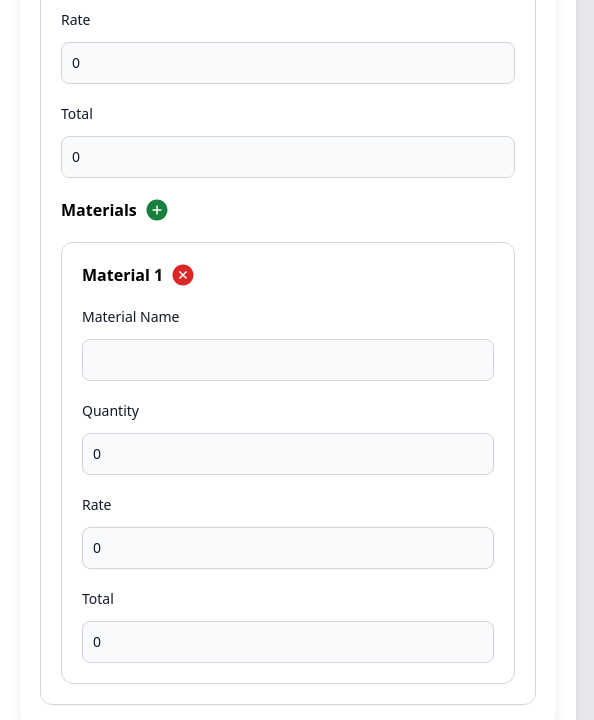
Scenario: DynamicForm Component › should render Material correctly
(page scrolled)
Expected: the heading "Materials" is shown, [61,198,137,222]
Expected: the heading "Material 1" is shown, [82,263,163,287]
Type "New Material Name" into the field labelled "Material Name" at (288, 360), box [82,339,494,381]
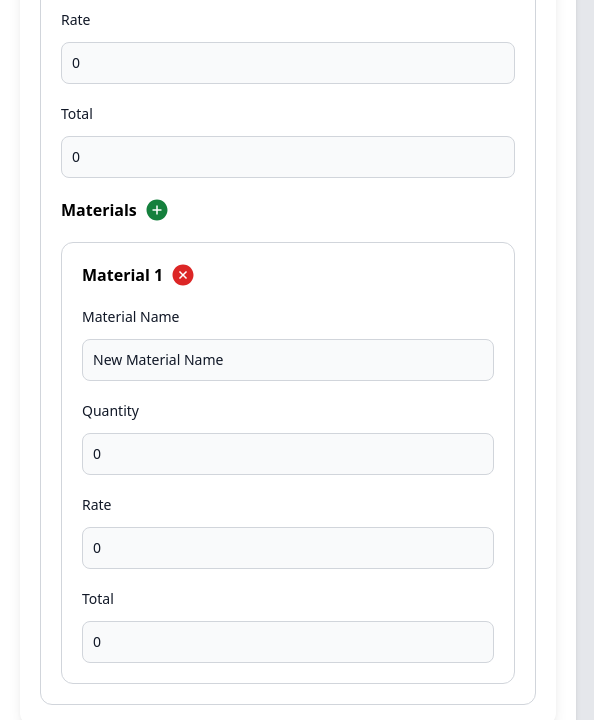
Replace the text in the number field labelled "Quantity" with "5" at (288, 454), box [82,433,494,475]
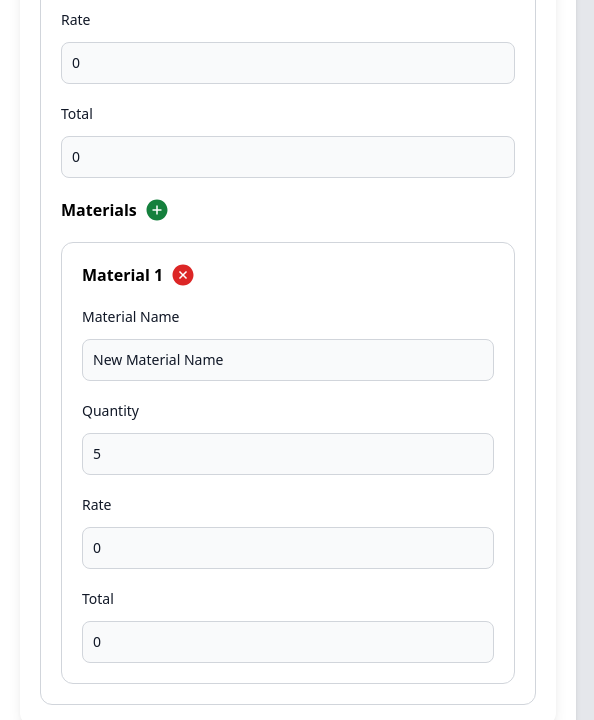
Replace the text in the number field labelled "Rate" below "Material Name" with "10" at (288, 548), box [82,527,494,569]
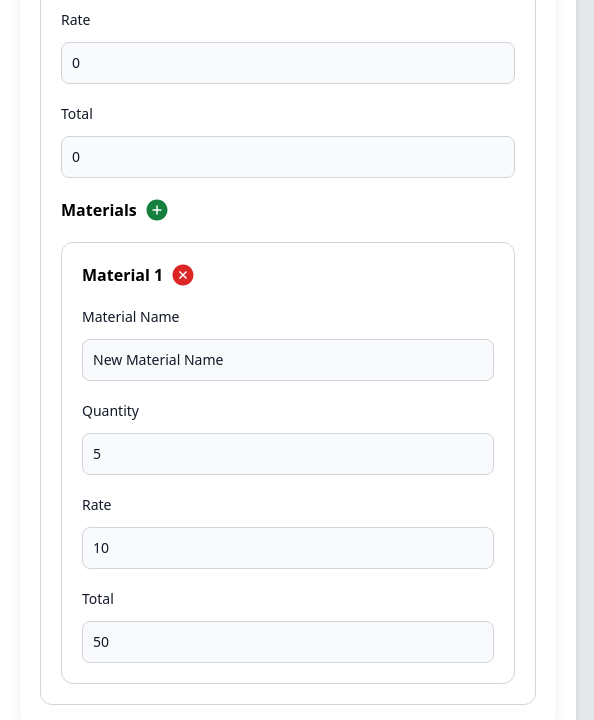
Expected: the number field labelled "Total" below "Material Name" holds "50", [82,621,494,663]
